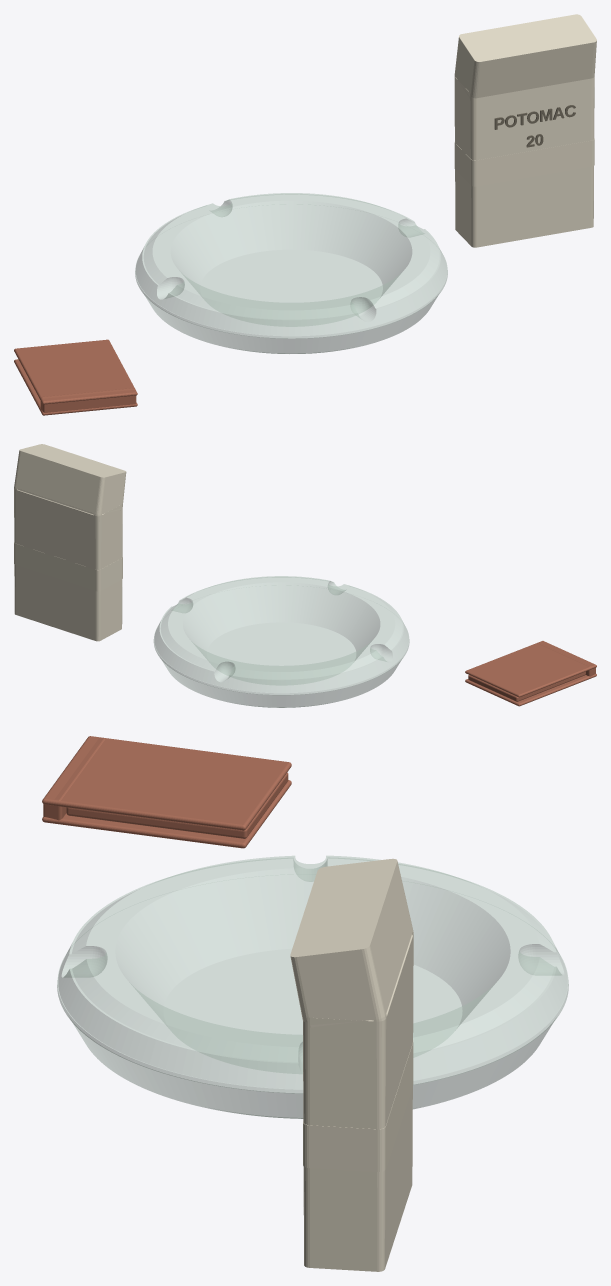
File: X14_LRSGRAY_DESK_03_B.glb
3 renders of one model, top to bottom at view 1: azimuth 30°, elevation 25°; view 2: azimuth 150°, elevation 25°; view 3: azimuth 270°, elevation 25°, orthographic. The views are drawn at different scales.
Parts seen in each view (by area): view 1: PASS6F_ashtray_round_0_ashtray_round_Body, PASS6F_cigarette_pack_1_cigarette_pack_DCGraphics, PASS6F_matchbook_2_matchbook_DCGraphics, PASS6F_cigarette_pack_1_cigarette_pack_Body; view 2: PASS6F_ashtray_round_0_ashtray_round_Body, PASS6F_cigarette_pack_1_cigarette_pack_DCGraphics, PASS6F_matchbook_2_matchbook_DCGraphics; view 3: PASS6F_ashtray_round_0_ashtray_round_Body, PASS6F_cigarette_pack_1_cigarette_pack_DCGraphics, PASS6F_matchbook_2_matchbook_DCGraphics.
Boxes of the visible parts, <box> form: PASS6F_ashtray_round_0_ashtray_round_Body: <box>135,193,447,353</box>; PASS6F_cigarette_pack_1_cigarette_pack_DCGraphics: <box>454,14,596,247</box>; PASS6F_matchbook_2_matchbook_DCGraphics: <box>14,339,137,415</box>; PASS6F_cigarette_pack_1_cigarette_pack_Body: <box>494,105,575,147</box>; PASS6F_ashtray_round_0_ashtray_round_Body: <box>153,576,409,707</box>; PASS6F_cigarette_pack_1_cigarette_pack_DCGraphics: <box>14,444,126,641</box>; PASS6F_matchbook_2_matchbook_DCGraphics: <box>465,641,596,706</box>; PASS6F_ashtray_round_0_ashtray_round_Body: <box>57,855,568,1118</box>; PASS6F_cigarette_pack_1_cigarette_pack_DCGraphics: <box>290,858,413,1271</box>; PASS6F_matchbook_2_matchbook_DCGraphics: <box>42,736,291,848</box>.
Bounding box in the file's own units: 0.28 × 0.0847 × 0.1252.
